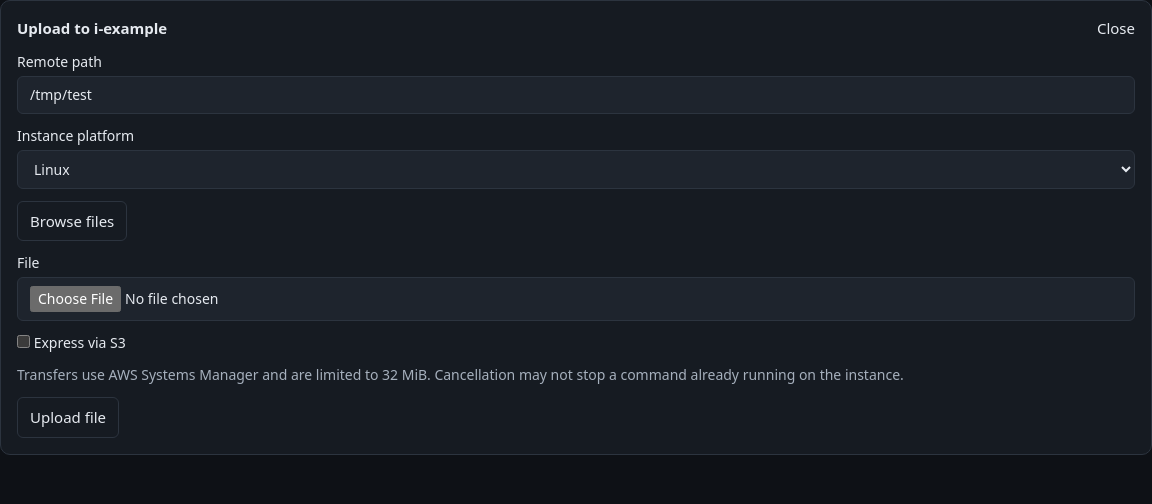
Test: uploads through the selected user role after confirmation
The width and height of the screenshot is (1152, 504).
Earlier steps of the test are not shown.
Click the button "Upload file" at {"x": 68, "y": 417}, box [17,397,119,438]
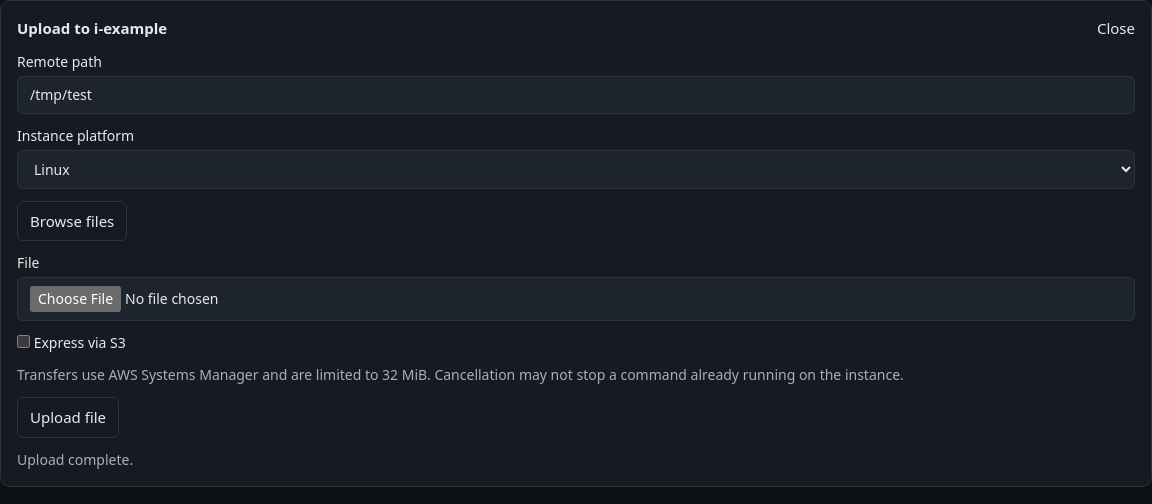
Expected: the text "Upload complete." is shown, [17,450,133,468]
